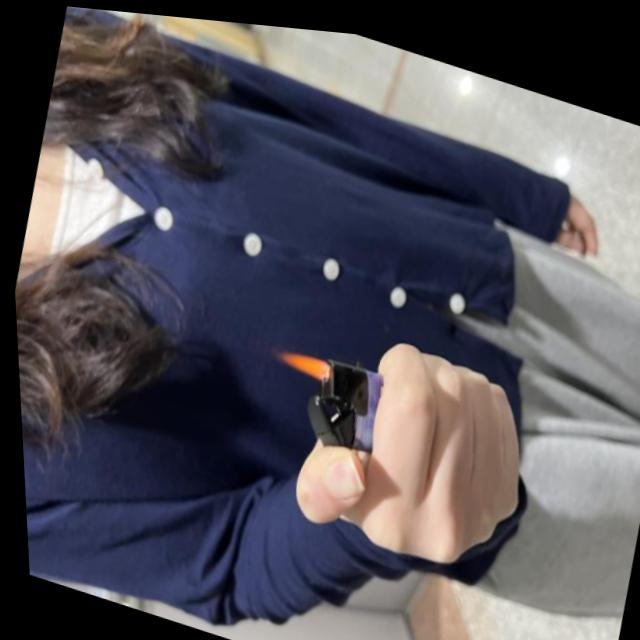Fire: (267, 334, 333, 382)
